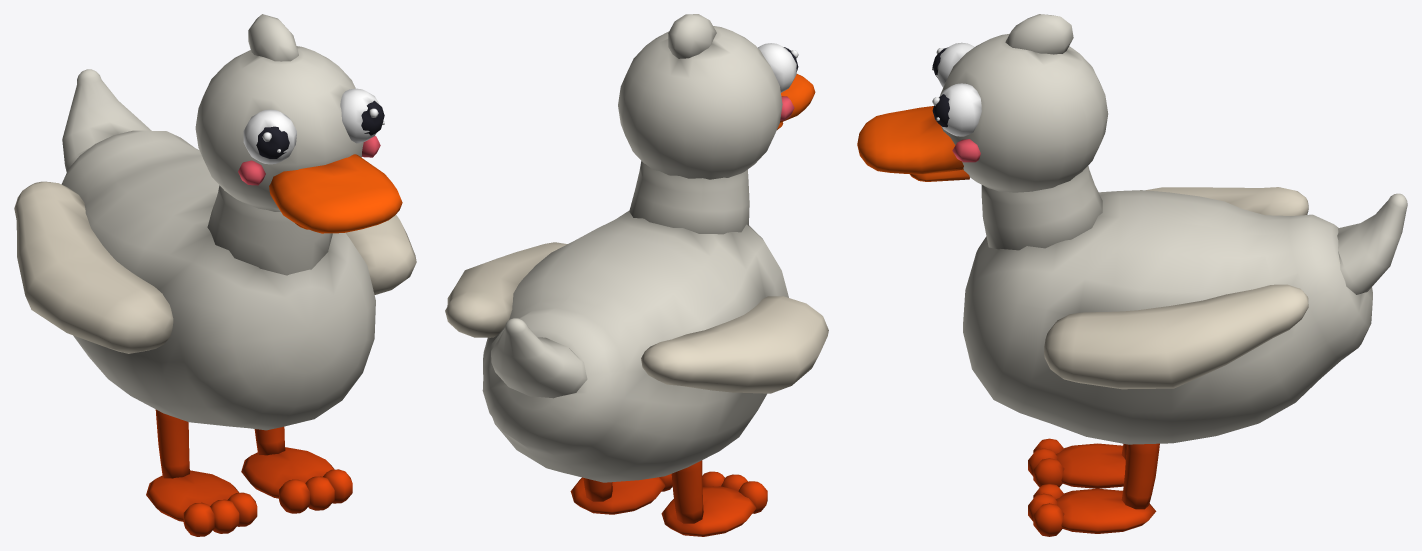
The model's file is Duck.fbx.
3 views of the same model, side by side, from view 1: azimuth 30°, elevation 25°; view 2: azimuth 150°, elevation 25°; view 3: azimuth 270°, elevation 25° (orthographic). The views are drawn at different scales.
Parts seen in each view (by area): view 1: Duck, Head, Tail; view 2: Duck, Head, Tail; view 3: Duck, Head, Tail.
Part boxes in pixels (x1,y1,x2,y2): Duck: (14,130,416,536); Head: (195,14,402,233); Tail: (62,69,151,172); Duck: (445,161,828,536); Head: (618,14,815,179); Tail: (491,318,587,398); Duck: (963,166,1372,536); Head: (857,14,1108,192); Tail: (1337,193,1407,294).
Size of the model in its own units: 0.3799 by 0.5044 by 0.5152.
